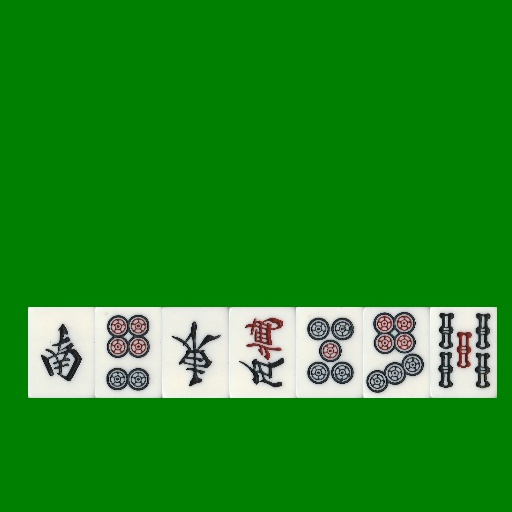5m: (229, 307, 296, 398)
5p: (296, 307, 363, 398)
5s: (430, 307, 497, 398)
6p: (95, 307, 162, 398)
7p: (363, 307, 430, 398)
east: (162, 307, 229, 398)
south: (28, 307, 95, 398)
